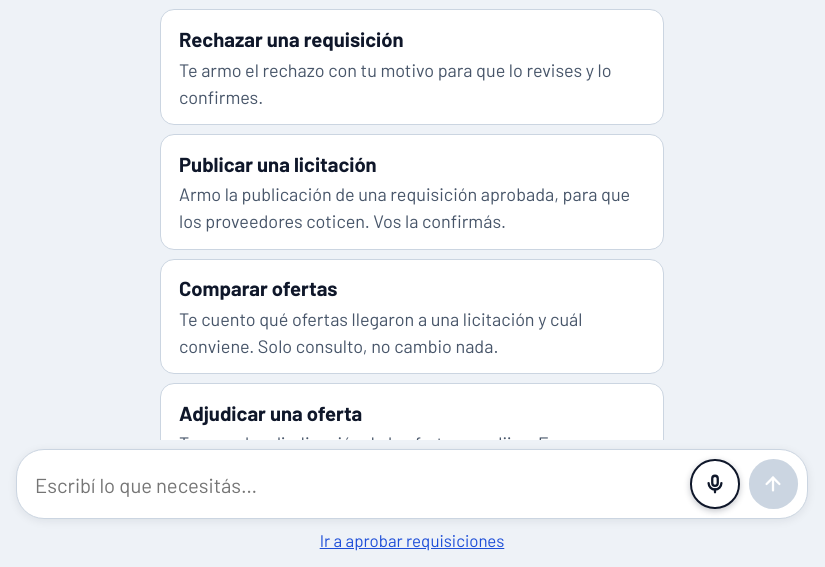
AsistenteChatPage en el portal de Compras › al cancelar no se aprueba nada y la requisición sigue pendiente
(page scrolled)
Type "aprobá la REQ-2026-0042" into the text box named "Escribí tu mensaje" at (358, 485), box [35,461,681,509]
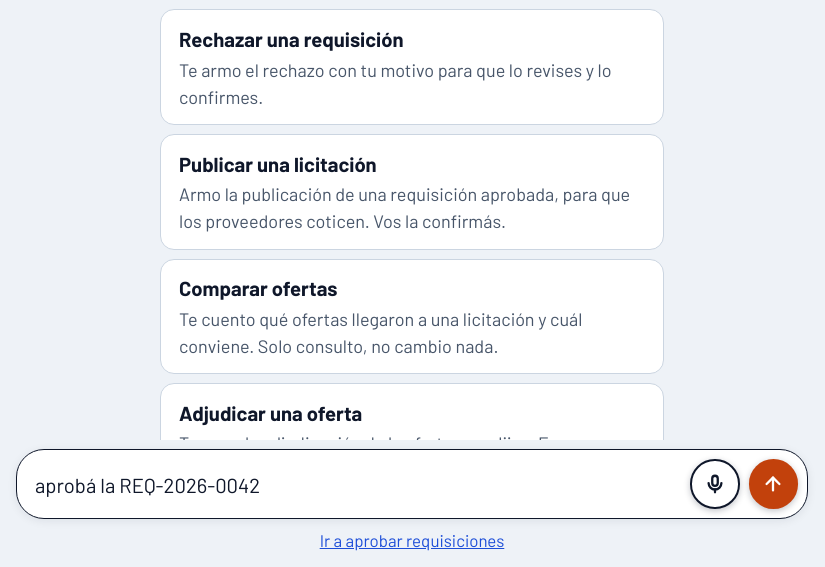
Click the button named "Enviar" at (773, 484), box [748,460,798,509]
(page scrolled)
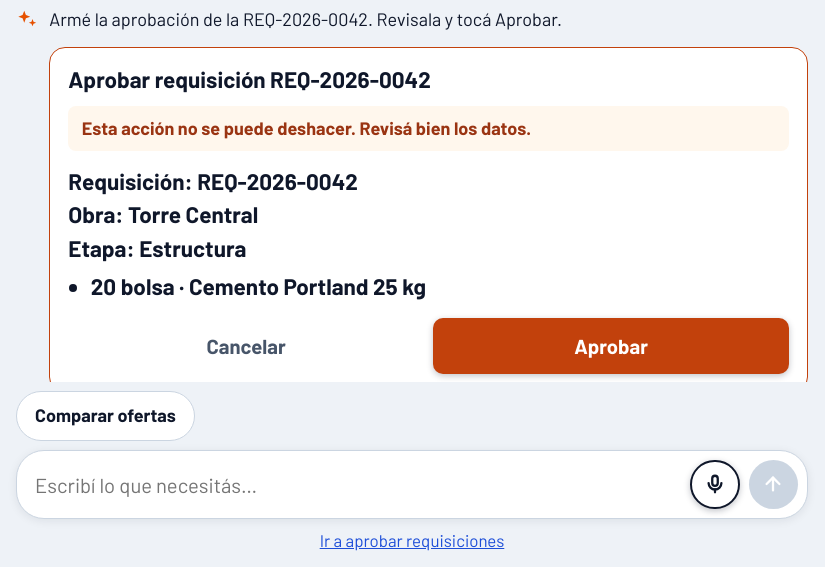
Click the button "Cancelar" at (246, 346), box [68,318,424,374]
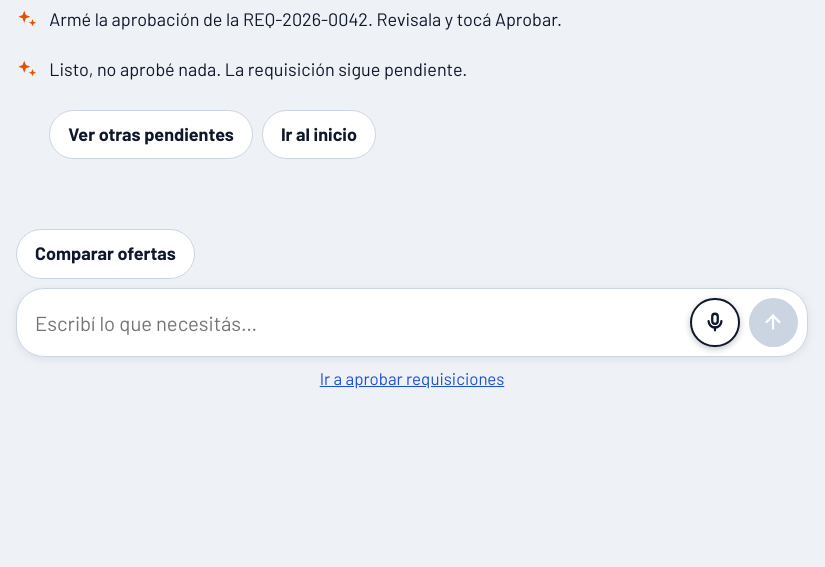
Expected: the text "Listo, no aprobé nada. La requisición sigue pendiente." is shown, [49,58,467,80]
